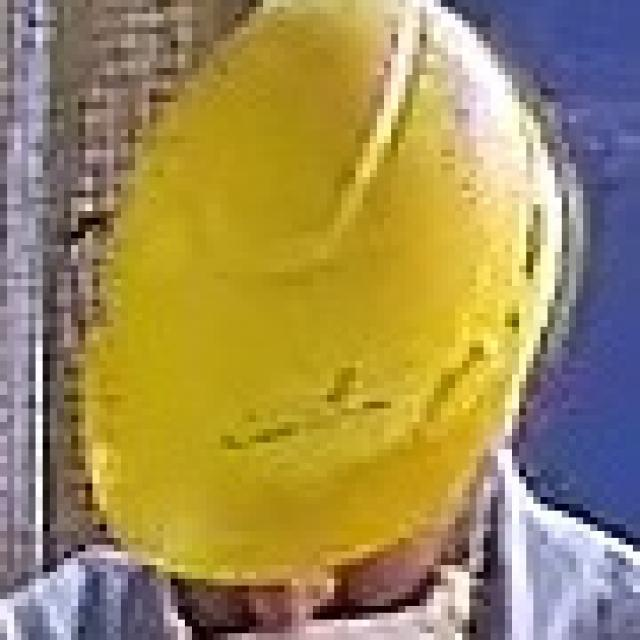yellow helmet: (81, 9, 583, 584)
